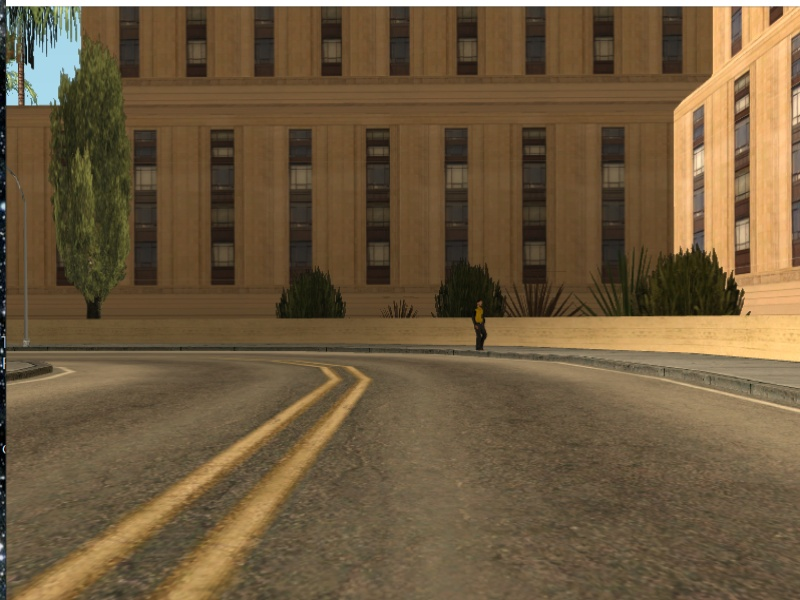person: (472, 300, 492, 351)
pole: (17, 181, 34, 355)
